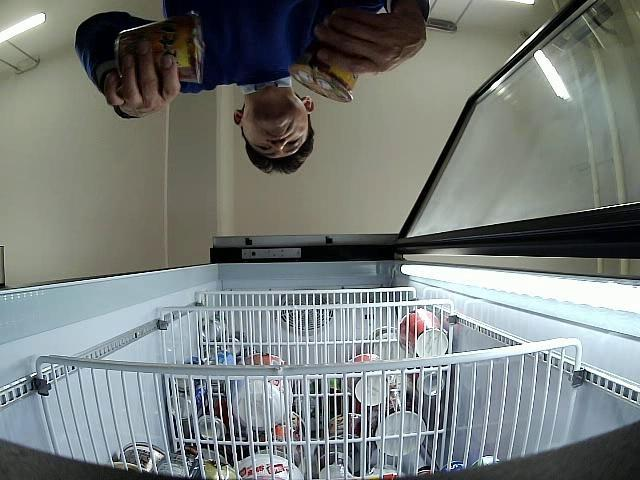06_nuguri_S: (114, 12, 204, 84), (288, 38, 360, 103)
